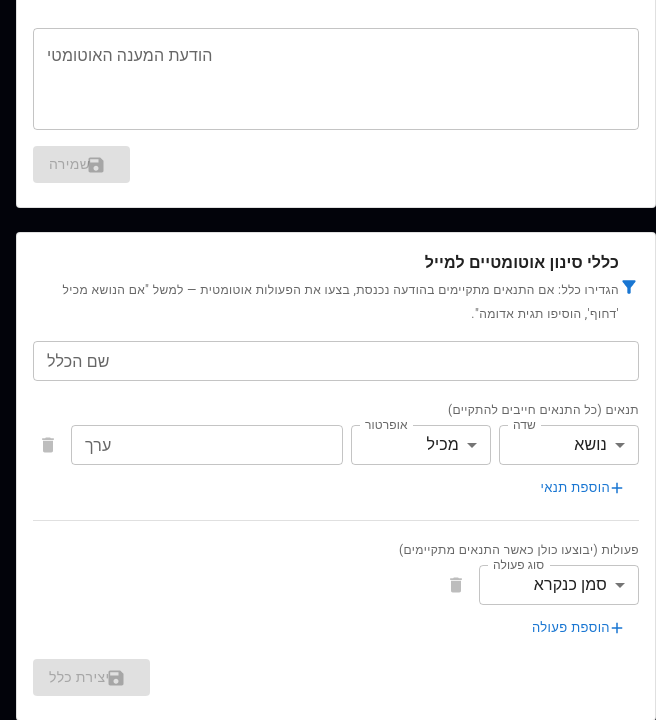
Test: ProfileSettings — email rules builder (TODO_SPEC.md "משימה 17") › save stays disabled until every condition/action value is filled in
(page scrolled)
Expected: the field with test id "rule-condition-value-0" is shown, [71,425,343,465]
Step 1. Type "כלל" into the field with test id "rule-name-input" → (336, 361), box [33,341,639,381]
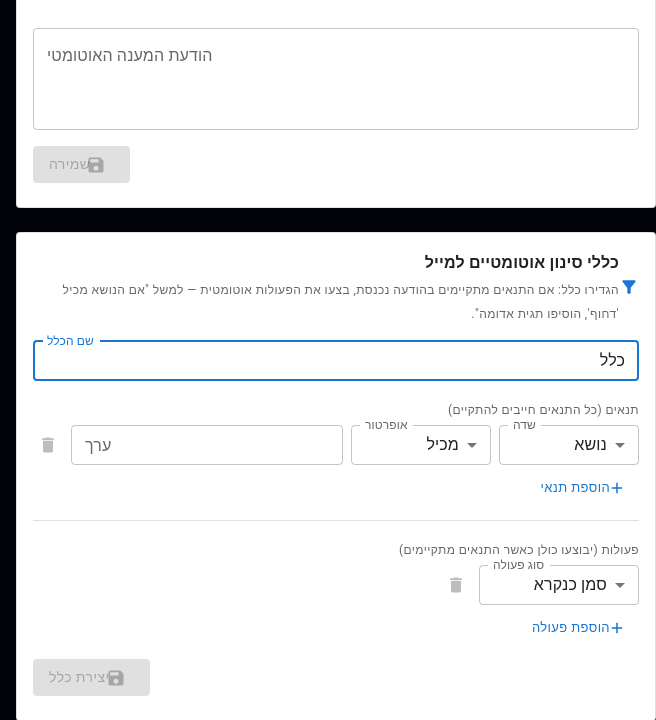
Expected: the button with test id "save-rule-button" is disabled, [33,659,150,696]
Step 2. Type "x" into the field with test id "rule-condition-value-0" → (207, 445), box [71,425,343,465]
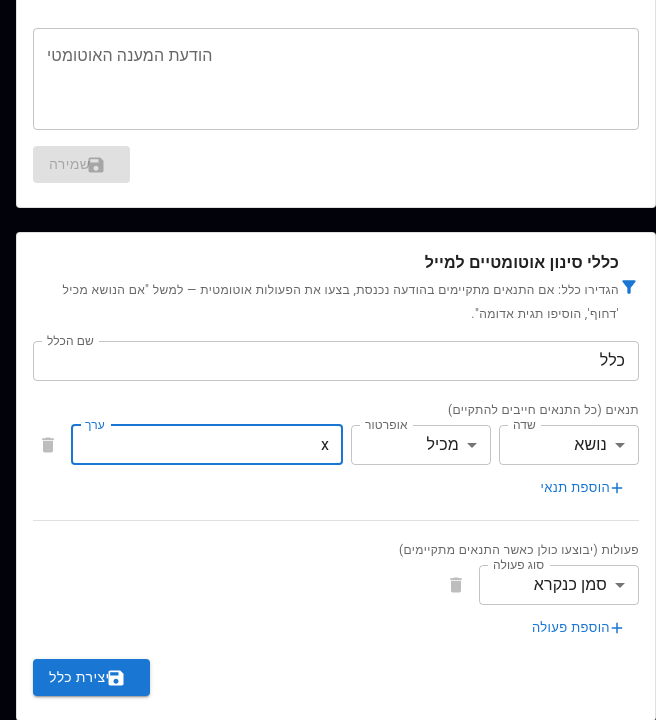
Now the button with test id "save-rule-button" is enabled, box [33,659,150,696]
